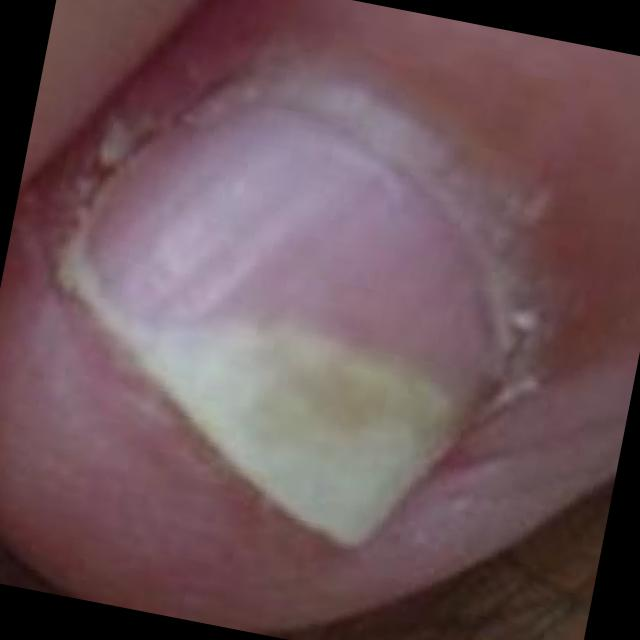Nail: (51, 95, 498, 554)
